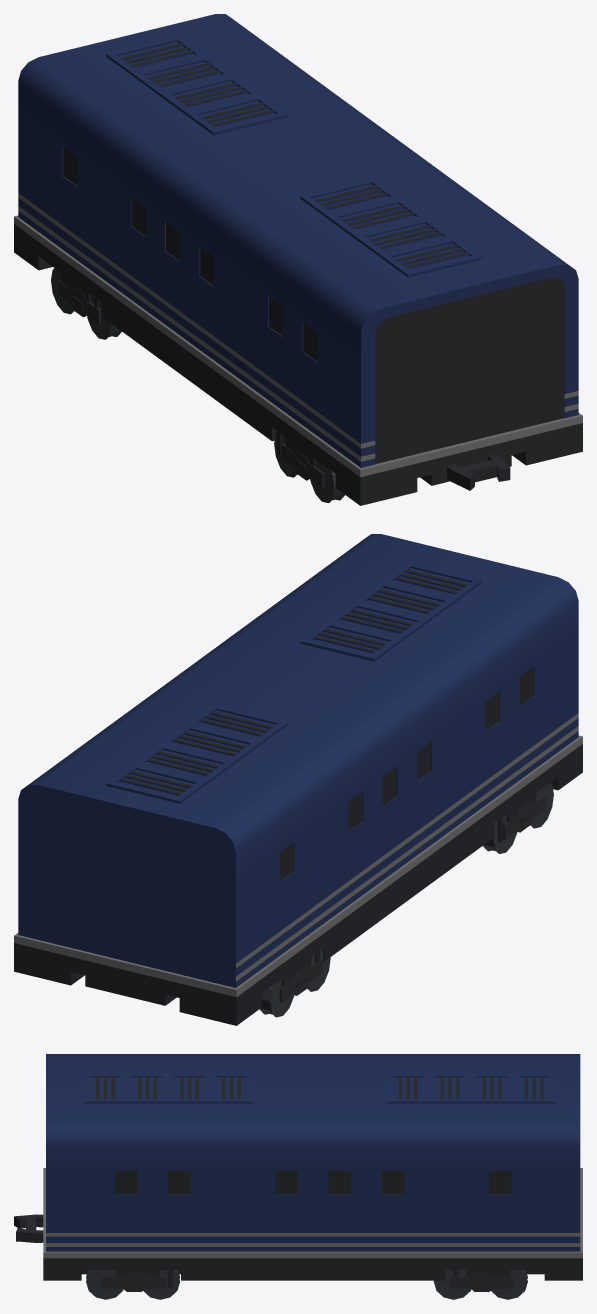
Rendered from Wagon_10.fbx.
3 views of the same model, one above another, from view 1: azimuth 30°, elevation 25°; view 2: azimuth 150°, elevation 25°; view 3: azimuth 270°, elevation 25° (orthographic). The views are drawn at different scales.
Parts seen in each view (by area): view 1: Wagon_10; view 2: Wagon_10; view 3: Wagon_10.
Boxes of the visible parts, bbox=[...] form: Wagon_10: bbox=[14, 14, 582, 505]; Wagon_10: bbox=[14, 534, 582, 1025]; Wagon_10: bbox=[14, 1054, 582, 1299].
Size of the model in its own units: 227 by 211 by 637.
